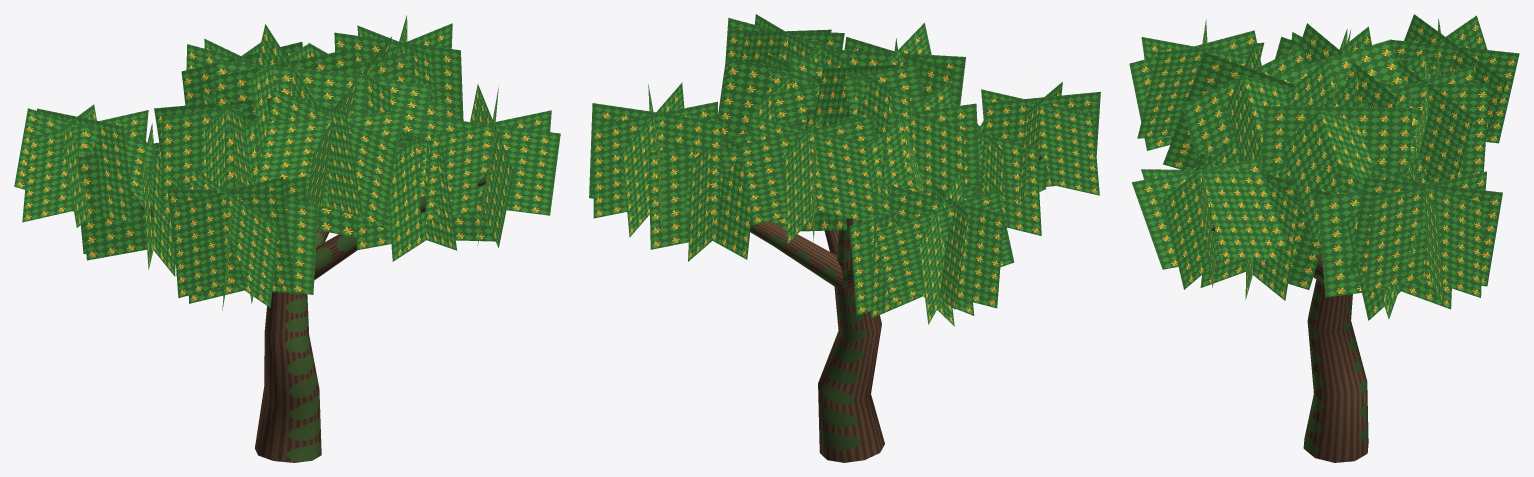
File: champaka_tree.glb
3 views of the same model, side by side, from view 1: azimuth 30°, elevation 25°; view 2: azimuth 150°, elevation 25°; view 3: azimuth 270°, elevation 25° (orthographic). The views are drawn at different scales.
Visible parts, largest first — view 1: Node_ChampakaTree; view 2: Node_ChampakaTree; view 3: Node_ChampakaTree.
Boxes of the visible parts, x1,y1,x2,y2 form: Node_ChampakaTree: (14, 15, 560, 462); Node_ChampakaTree: (589, 14, 1100, 462); Node_ChampakaTree: (1129, 14, 1519, 462).
Size of the model in its own units: 10.81 by 10.06 by 8.66.
Materials: 2 (2 with a texture image).
